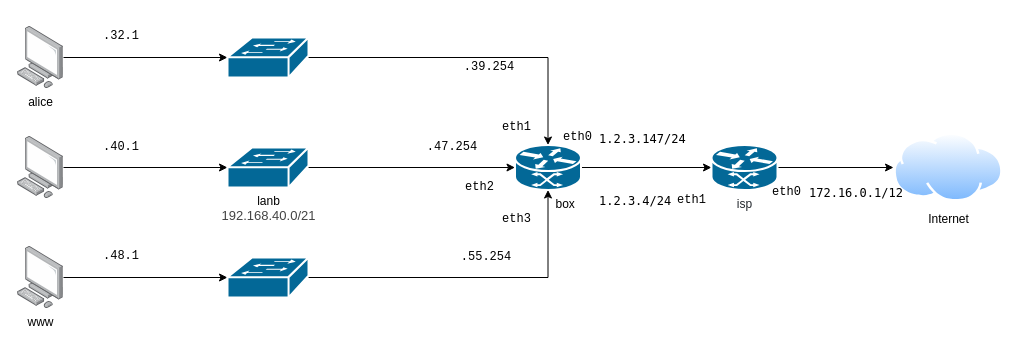
This 1020x351 diagram has some shape labels left out. Each missing label, with the centre of its shape:
bob: the point at 40,167
lana 192.168.32.0/21: the point at 267,57
lanc 192.168.48.0/21: the point at 267,277
